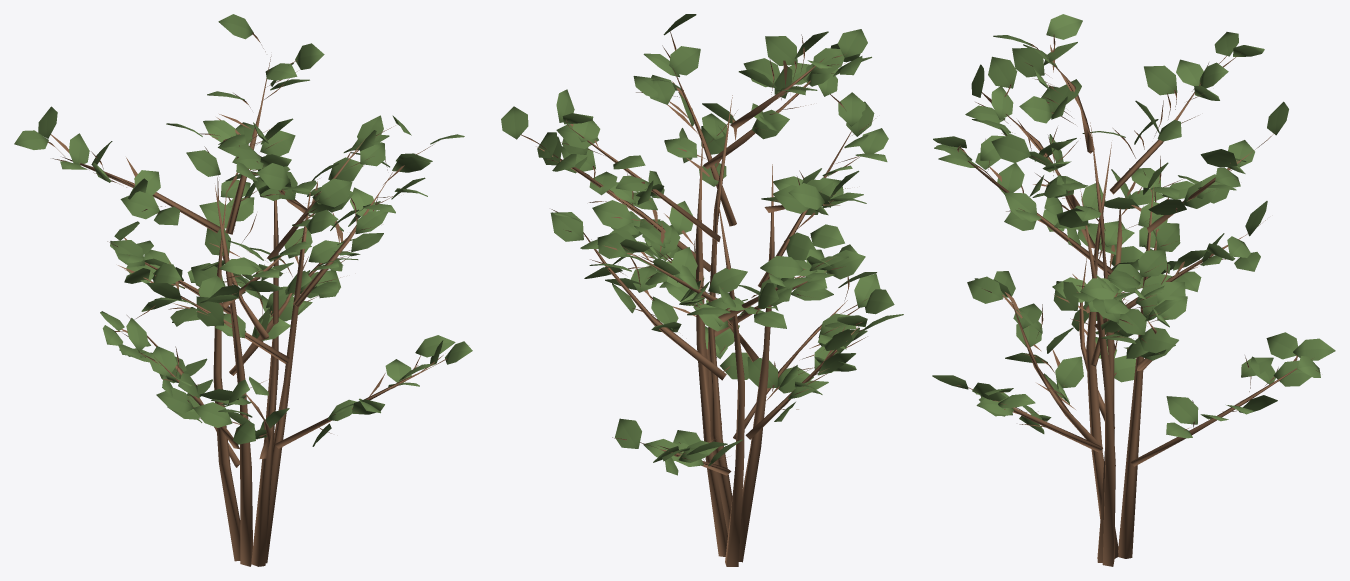
Rendered from Arbousier_1_LOD2.fbx.
3 renders of one model, left to right at view 1: azimuth 30°, elevation 25°; view 2: azimuth 150°, elevation 25°; view 3: azimuth 270°, elevation 25°, orthographic. The views are drawn at different scales.
Parts seen in each view (by area): view 1: Arbousier_1_LOD2; view 2: Arbousier_1_LOD2; view 3: Arbousier_1_LOD2.
Boxes of the visible parts, bbox=[...] form: Arbousier_1_LOD2: bbox=[14, 14, 472, 566]; Arbousier_1_LOD2: bbox=[501, 14, 903, 566]; Arbousier_1_LOD2: bbox=[932, 14, 1335, 566].
Size of the model in its own units: 302 by 352 by 259.
